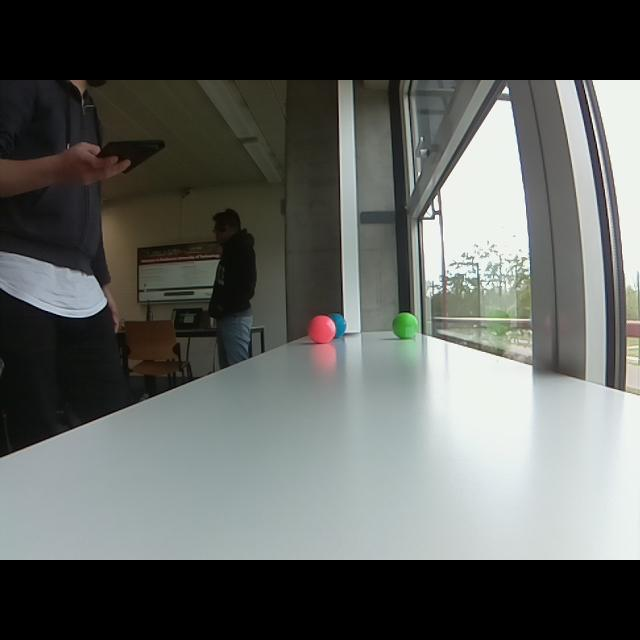ball: (390, 310, 421, 342), (308, 313, 338, 346)
